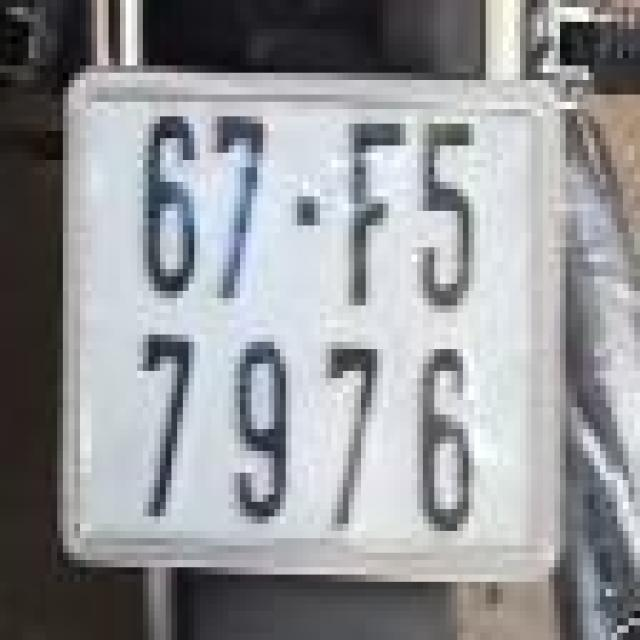5: (414, 109, 494, 320)
6: (400, 331, 486, 549), (131, 105, 206, 324)
7: (306, 331, 386, 564), (203, 95, 271, 320), (134, 324, 197, 527)
9: (223, 324, 297, 520)
F: (329, 102, 414, 313)
